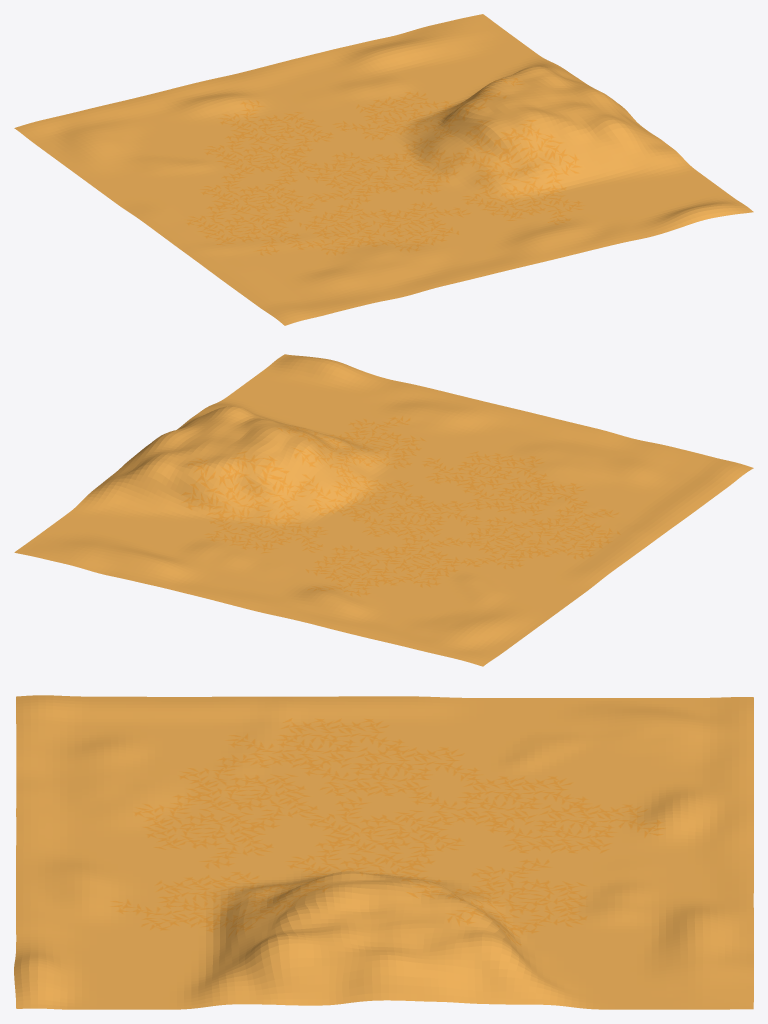
The model's file is terrain.gltf.
The picture shows the model from 3 angles, top to bottom: view 1: azimuth 30°, elevation 25°; view 2: azimuth 150°, elevation 25°; view 3: azimuth 270°, elevation 25°; orthographic projection. The views are drawn at different scales.
Visible parts, largest first — view 1: Plane.001; view 2: Plane.001; view 3: Plane.001.
Boxes of the visible parts, x1,y1,x2,y2 form: Plane.001: (14, 14, 753, 325); Plane.001: (14, 354, 753, 666); Plane.001: (14, 695, 753, 1009).
Size of the model in its own units: 0.7032 by 0.053 by 0.7023.
Materials: 1 (1 with a texture image).
